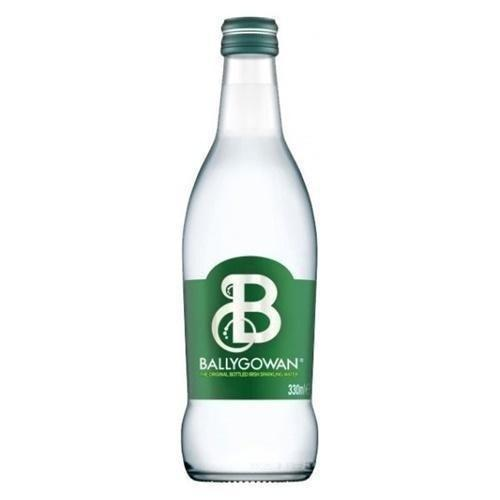bottle-glass: (177, 10, 324, 491)
